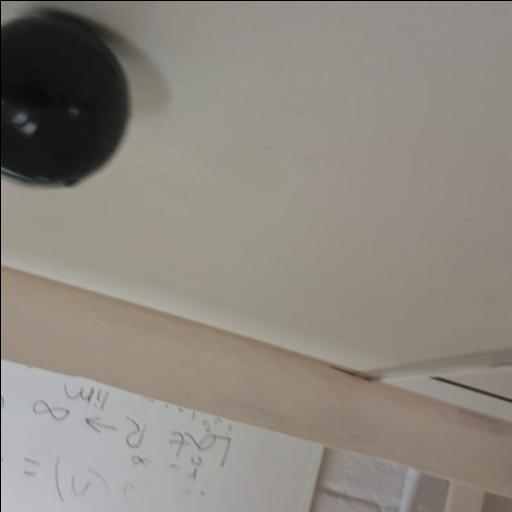dead: (0, 12, 130, 188)
